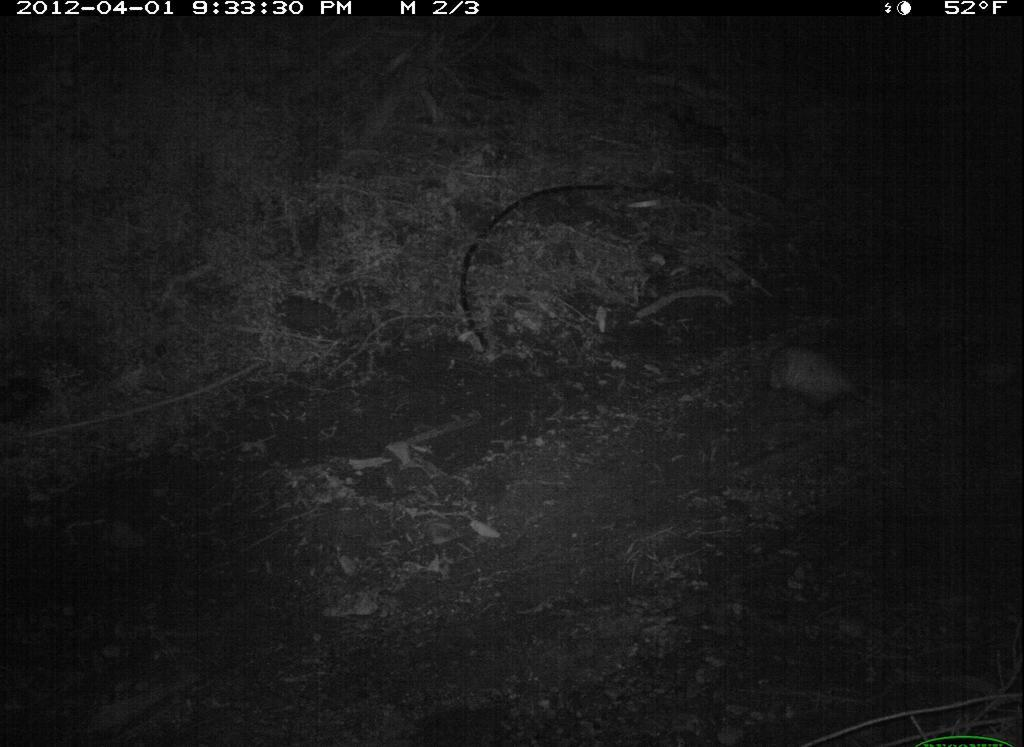opossum: (754, 323, 889, 434)
